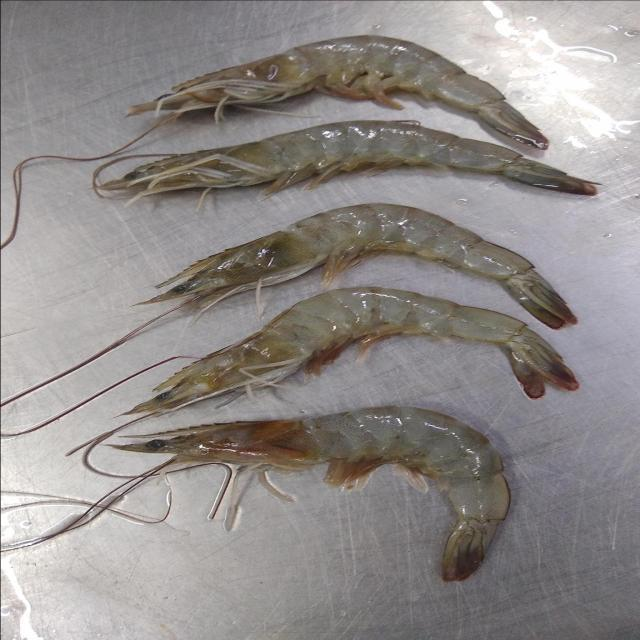shrimp: (140, 202, 576, 329), (127, 35, 549, 149), (98, 120, 598, 200)
